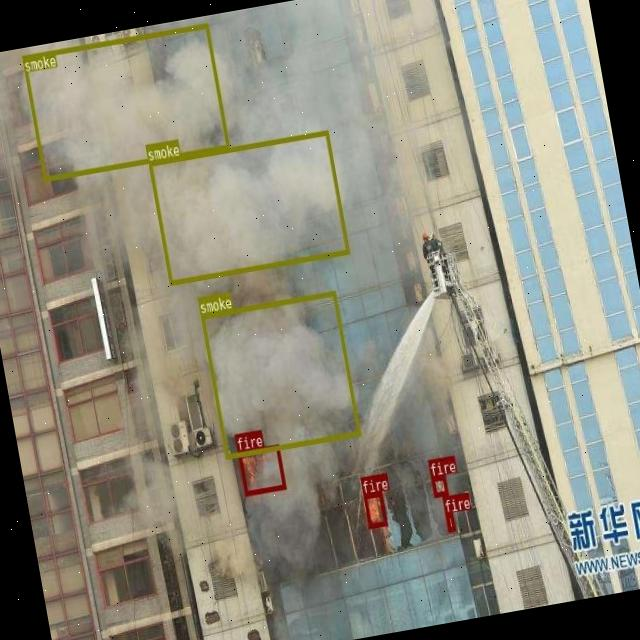fire: (238, 444, 284, 494), (362, 491, 387, 528), (431, 474, 448, 496), (444, 512, 454, 531)
smoke: (20, 22, 228, 180), (148, 130, 349, 284), (200, 290, 359, 458)
